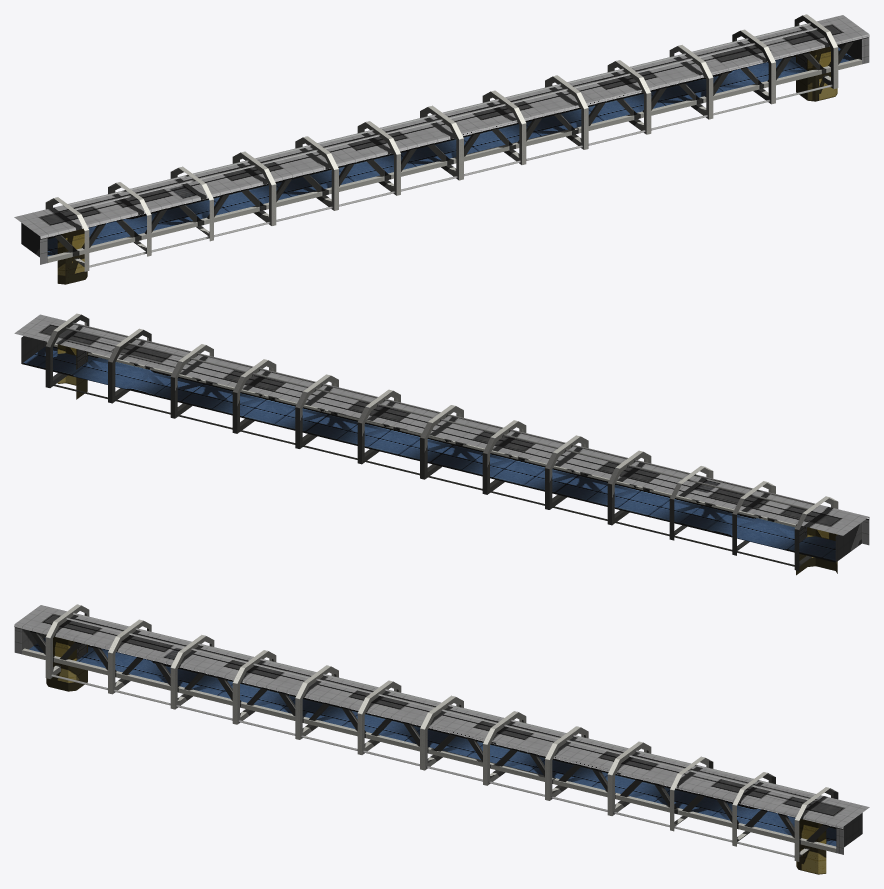
Rendered from OBJ_BridgeA.FBX.
3 renders of one model, top to bottom at view 1: azimuth 30°, elevation 25°; view 2: azimuth 150°, elevation 25°; view 3: azimuth 330°, elevation 25°, orthographic.
Visible parts, largest first — view 1: OBJ_BridgeA; view 2: OBJ_BridgeA; view 3: OBJ_BridgeA.
Boxes of the visible parts, x1,y1,x2,y2 form: OBJ_BridgeA: [14, 14, 869, 284]; OBJ_BridgeA: [14, 313, 869, 575]; OBJ_BridgeA: [14, 604, 869, 874].
Size of the model in its own units: 27.46 by 2.2 by 2.24.
Materials: 1 (1 with a texture image).
